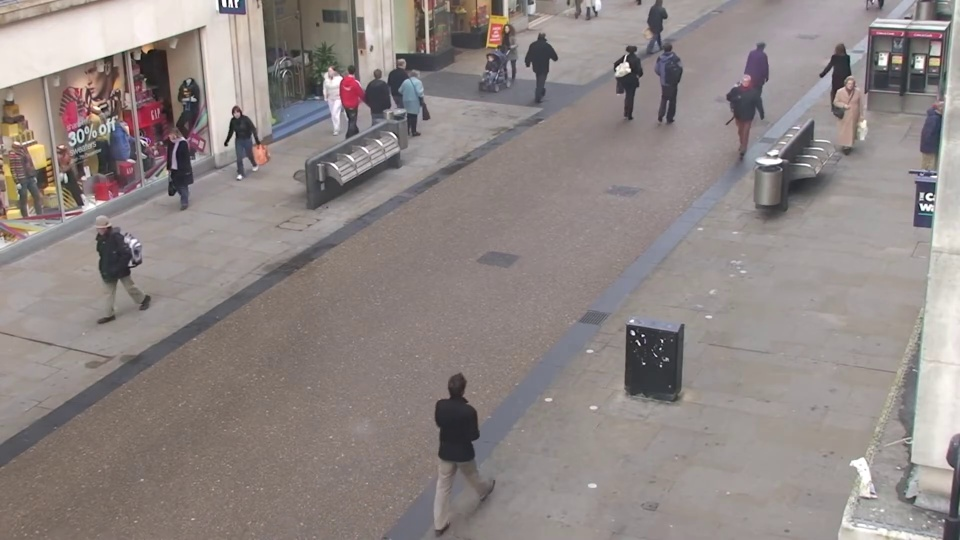pedestrian: (449, 356, 501, 512), (71, 212, 125, 330), (154, 126, 194, 222), (218, 103, 254, 194), (828, 74, 864, 161), (819, 41, 852, 119), (728, 75, 758, 160), (315, 67, 345, 148), (369, 62, 399, 142), (341, 61, 371, 140), (406, 64, 435, 145), (392, 55, 421, 133), (473, 52, 501, 130), (748, 36, 776, 111), (621, 40, 646, 115), (657, 38, 682, 112), (533, 26, 558, 97), (491, 25, 516, 95)
